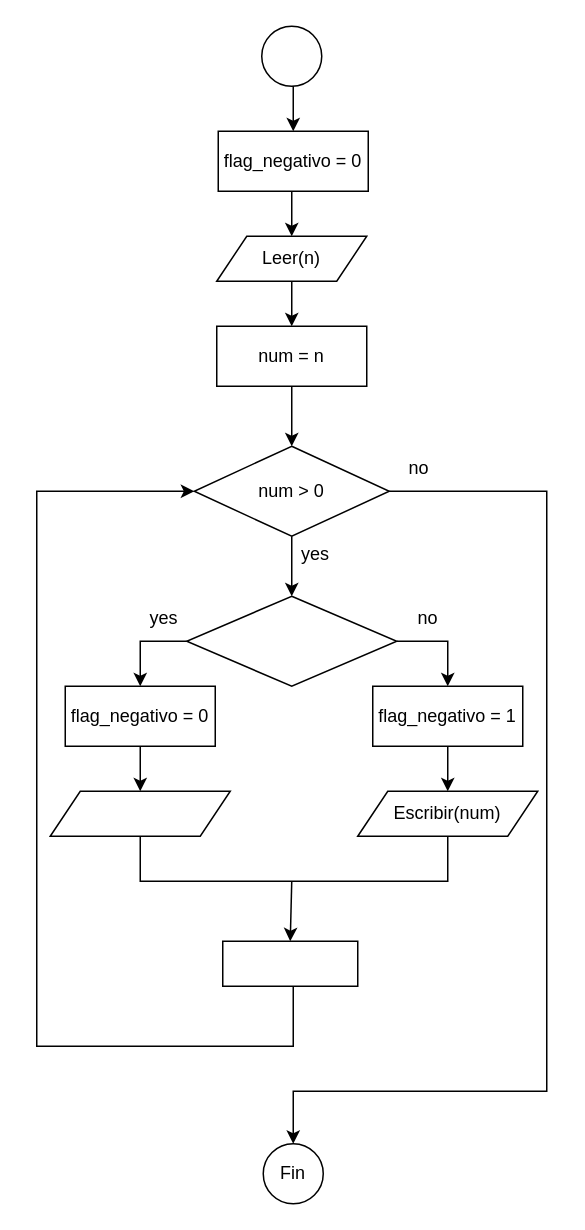
Image size: 585x1230. Some labels were removed from this diagram. Here are the shapes that lost their labels. From the top down, the centre of each, then its label:
At [291,55]: "Inicio".
At [291,640]: "flag_negativo == 1".
At [139,813]: "Escribir(-num)".
At [289,963]: "num = num - 1".
